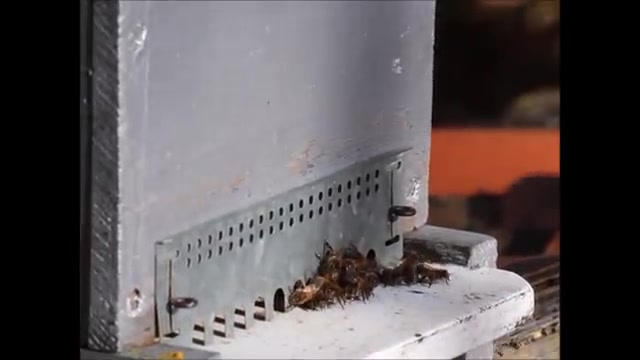bee: (323, 249, 381, 302), (385, 263, 451, 285), (290, 288, 320, 307)
